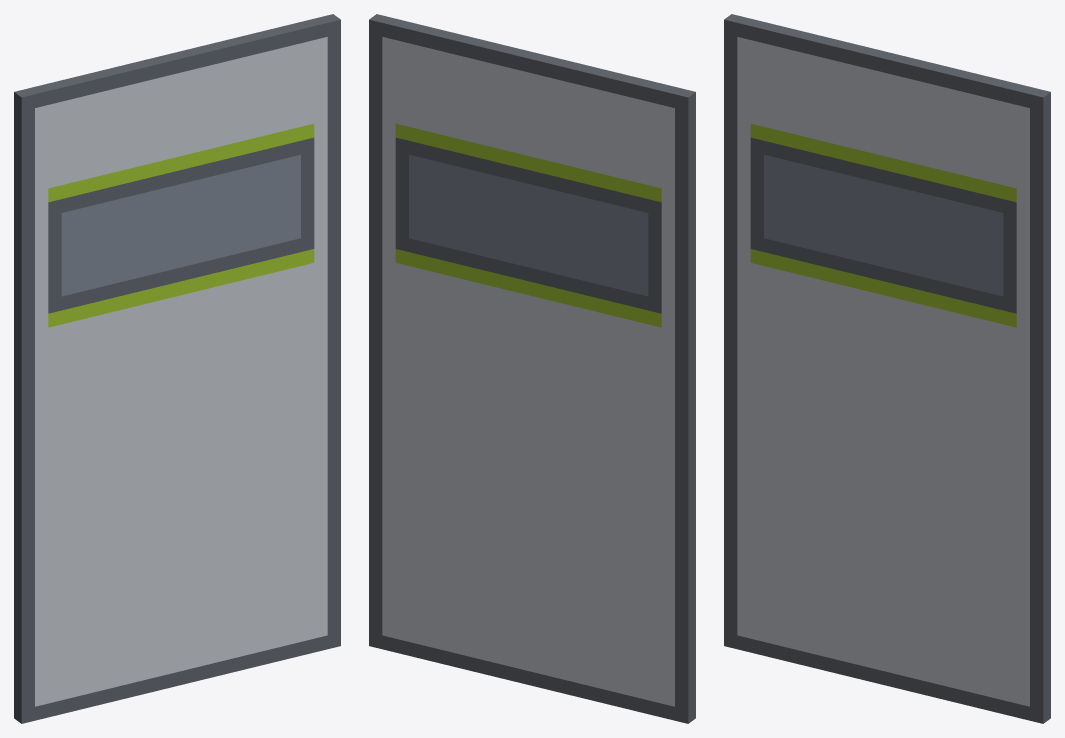
Rendered from hallway-door.obj.
3 views of the same model, side by side, from view 1: azimuth 30°, elevation 25°; view 2: azimuth 150°, elevation 25°; view 3: azimuth 330°, elevation 25° (orthographic).
Bounding box in the file's own units: 2.4 × 4.5 × 0.1.
Materials: 1 (1 with a texture image).
